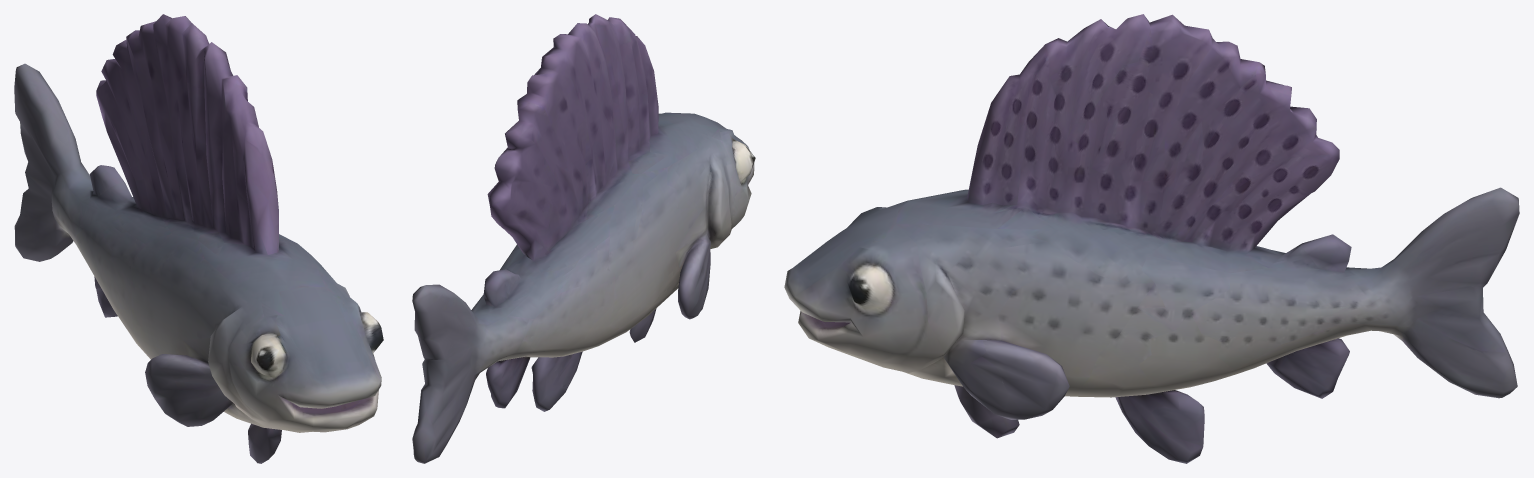
File: fish-grayling.glb
3 views of the same model, side by side, from view 1: azimuth 30°, elevation 25°; view 2: azimuth 150°, elevation 25°; view 3: azimuth 270°, elevation 25° (orthographic). The views are drawn at different scales.
Visible parts, largest first — view 1: tripo_node_9636af6b-defc-4dd8-b01b-0498d7ab8a7b; view 2: tripo_node_9636af6b-defc-4dd8-b01b-0498d7ab8a7b; view 3: tripo_node_9636af6b-defc-4dd8-b01b-0498d7ab8a7b.
Boxes of the visible parts, x1=… form: tripo_node_9636af6b-defc-4dd8-b01b-0498d7ab8a7b: x1=14, y1=14, x2=383, y2=463; tripo_node_9636af6b-defc-4dd8-b01b-0498d7ab8a7b: x1=412, y1=14, x2=755, y2=463; tripo_node_9636af6b-defc-4dd8-b01b-0498d7ab8a7b: x1=784, y1=14, x2=1519, y2=463.
Bounding box in the file's own units: 0.2826 × 0.6628 × 1.
Materials: 1 (1 with a texture image).
